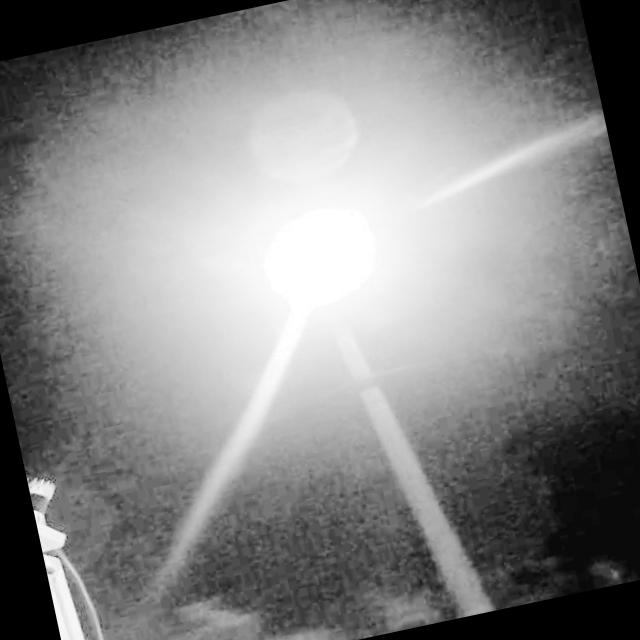Light: (244, 192, 390, 318)
